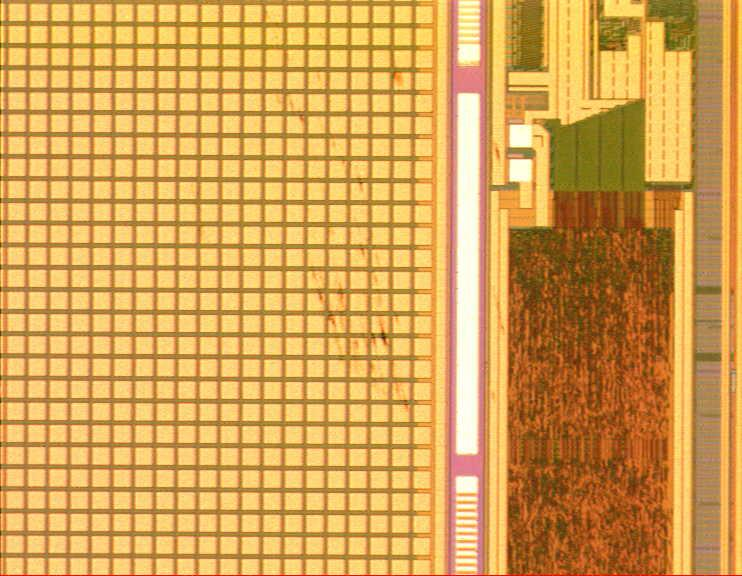SCRATCH: (253, 66, 520, 459)
